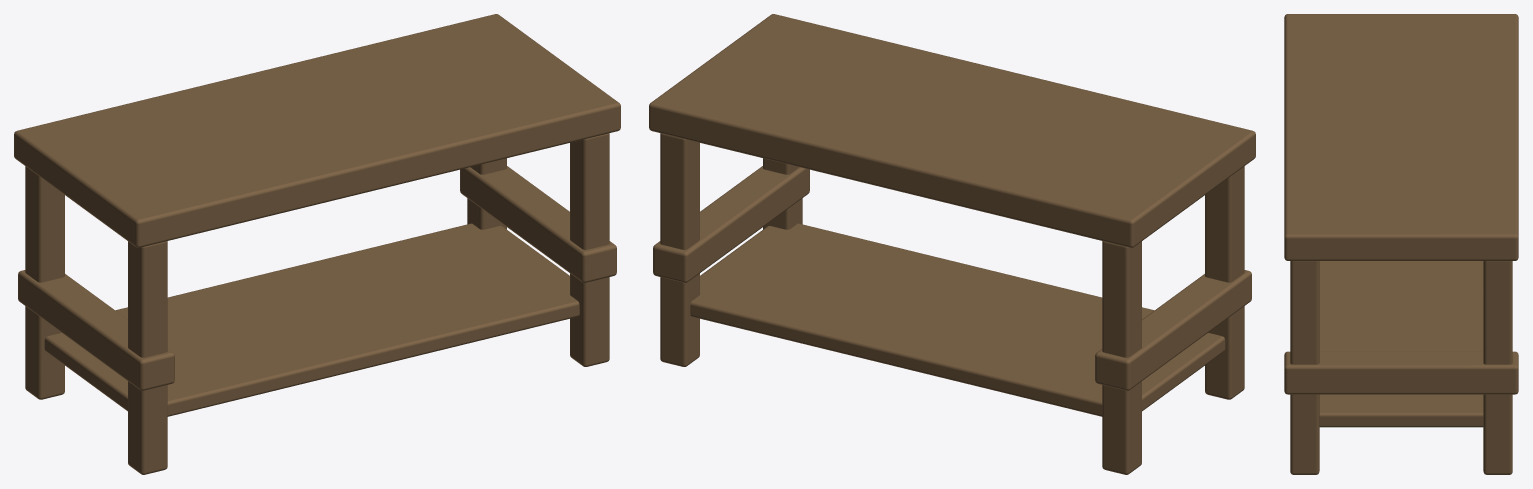
File: water-clock-garden-and-hydraulic-puzzles-clock-calibra-11698b65__31958.glb
The picture shows the model from 3 angles, left to right: view 1: azimuth 30°, elevation 25°; view 2: azimuth 150°, elevation 25°; view 3: azimuth 270°, elevation 25°; orthographic projection. The views are drawn at different scales.
Parts seen in each view (by area): view 1: clock-calibration-bench; view 2: clock-calibration-bench; view 3: clock-calibration-bench.
Part boxes in pixels (box(x1,y1,x2,y2)): clock-calibration-bench: box(14, 14, 620, 474); clock-calibration-bench: box(649, 14, 1255, 474); clock-calibration-bench: box(1284, 14, 1518, 474).
Size of the model in its own units: 1.8 by 0.9201 by 0.7999.
